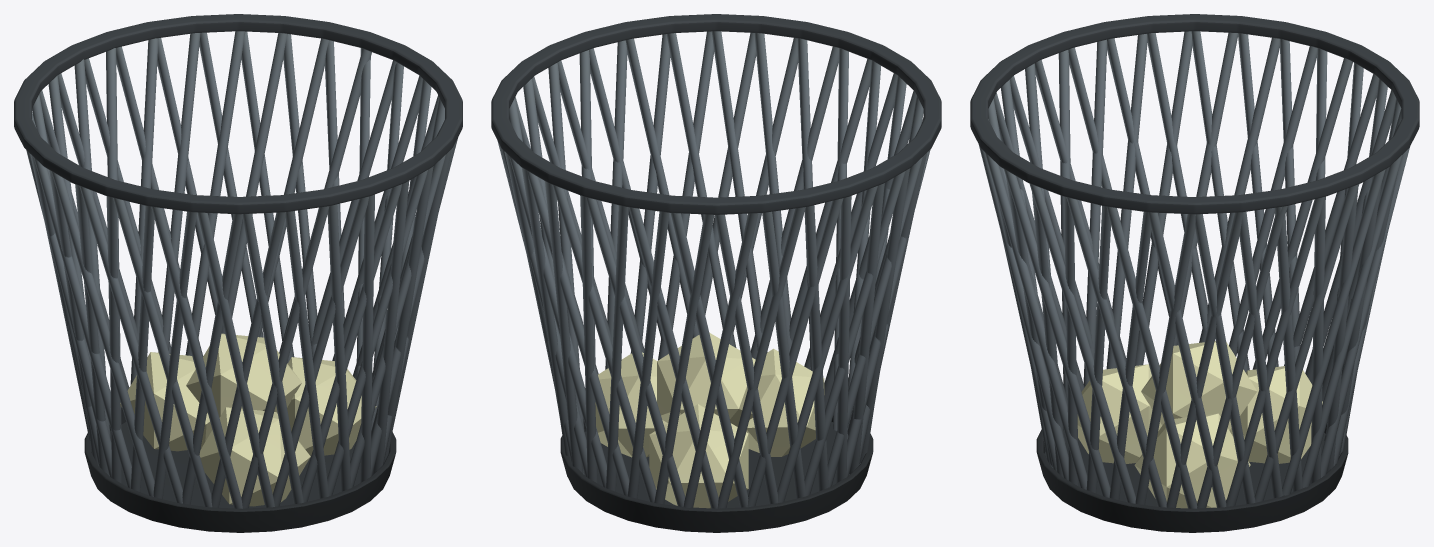
Rendered from New_Trash.fbx.
3 views of the same model, side by side, from view 1: azimuth 30°, elevation 25°; view 2: azimuth 150°, elevation 25°; view 3: azimuth 270°, elevation 25° (orthographic).
Parts seen in each view (by area): view 1: pPipe3; view 2: pPipe3; view 3: pPipe3.
Part boxes in pixels (bbox=[...]): pPipe3: bbox=[14, 14, 462, 532]; pPipe3: bbox=[491, 14, 941, 532]; pPipe3: bbox=[970, 14, 1419, 532].
Bounding box in the file's own units: 60.84 × 53.99 × 60.54.
